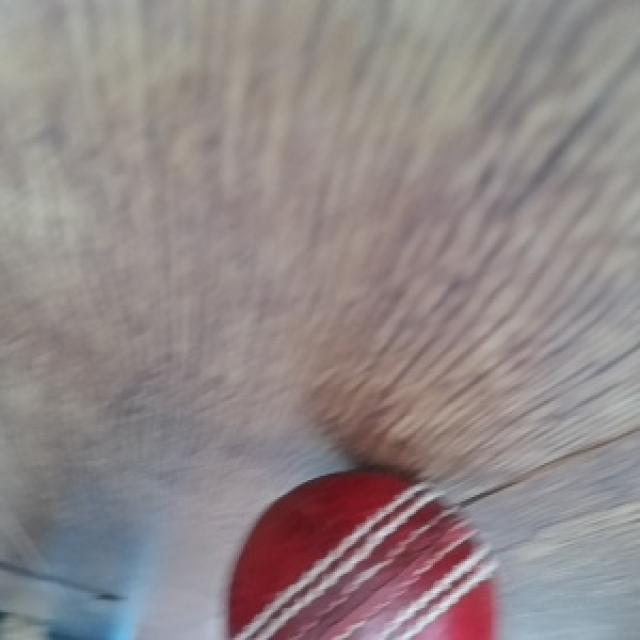ball: (226, 471, 503, 640)
